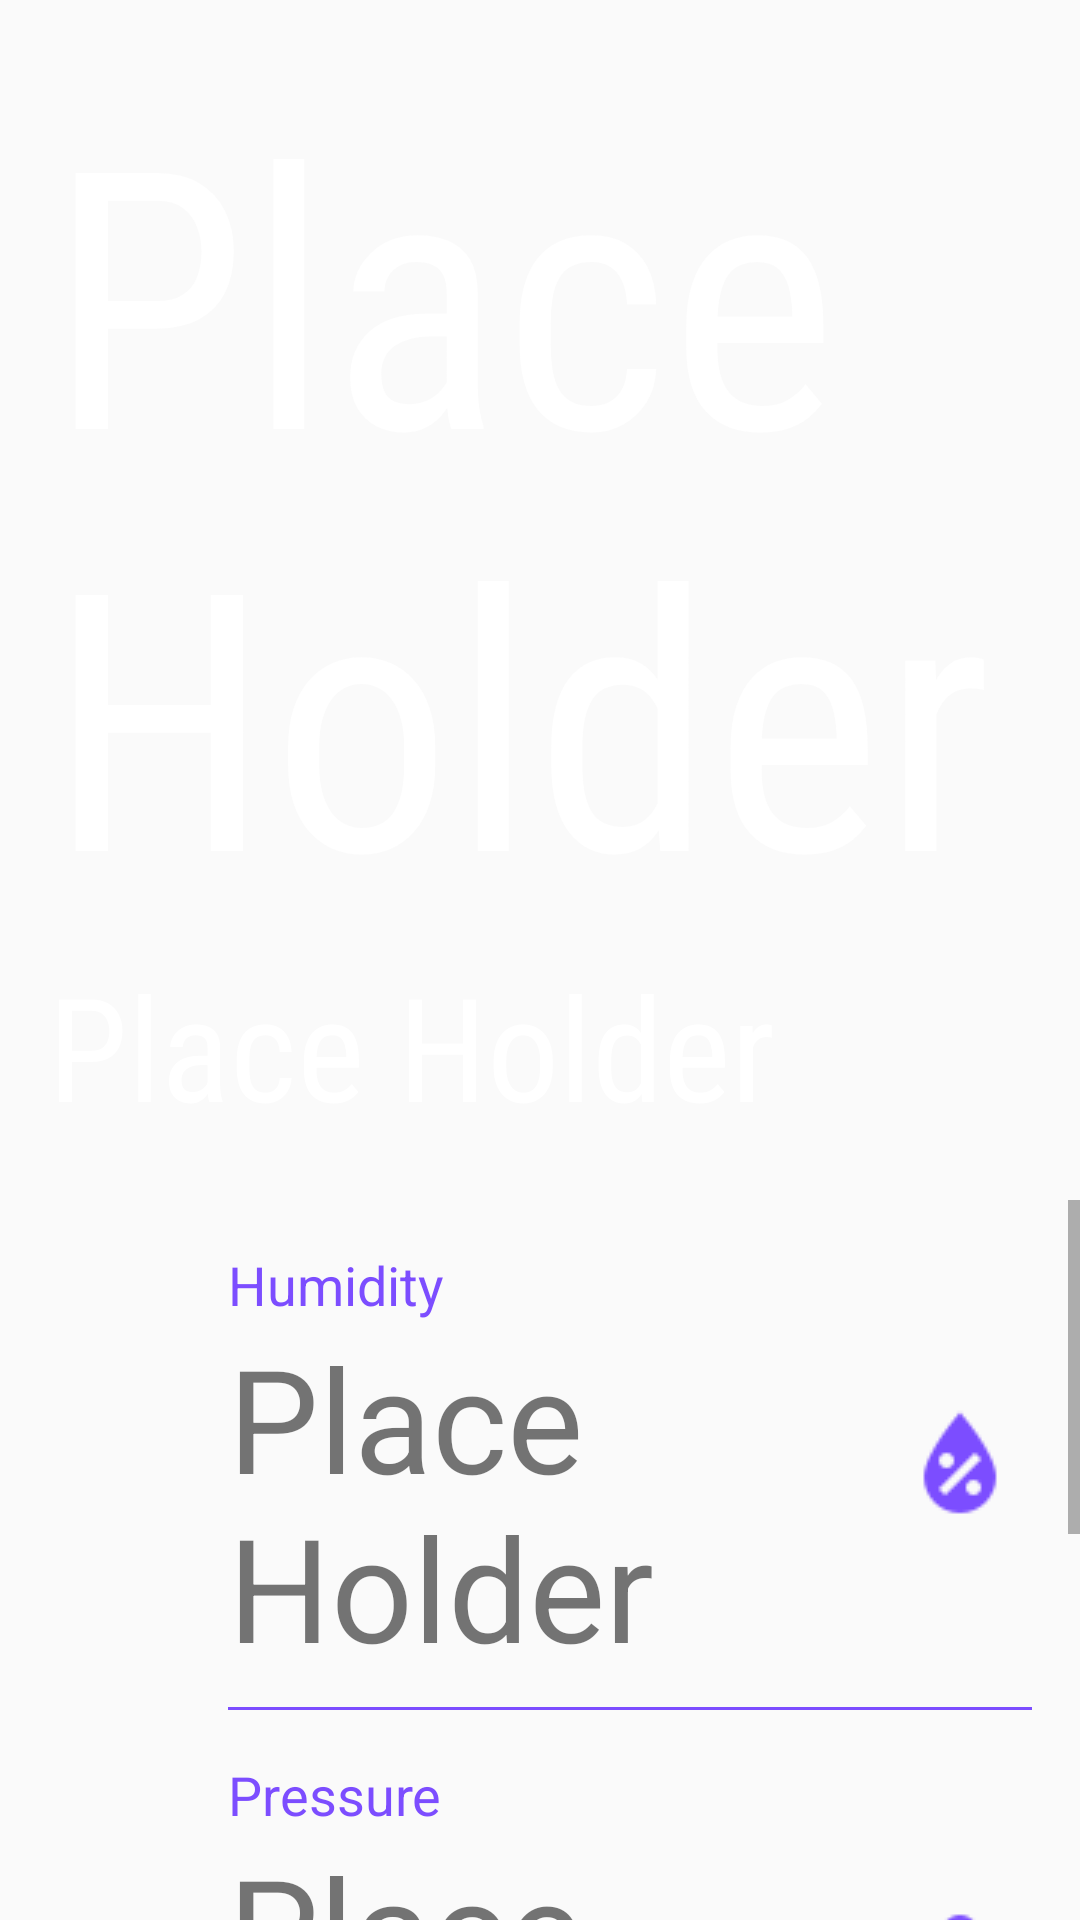

Locate icon controls on the screen. Image size 1080 × 1920, boxes as (x1, y1, x2, y2).
detail humidity: (923, 1413, 997, 1514)
